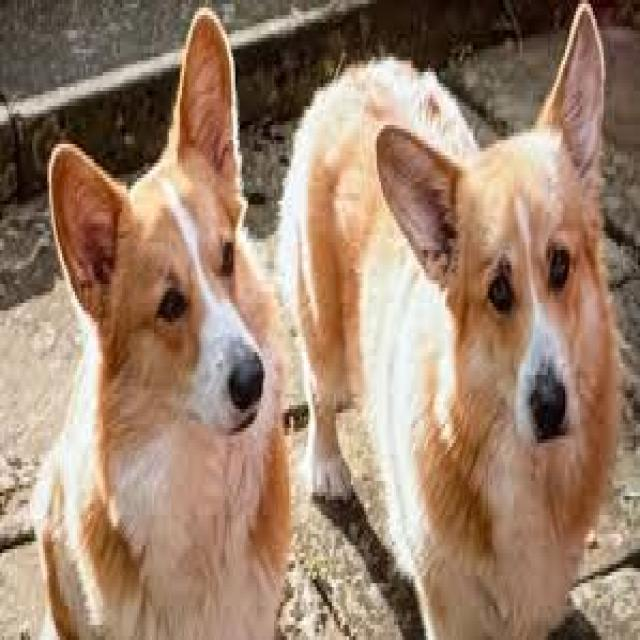CORGI: (264, 0, 624, 640), (23, 6, 294, 640)
